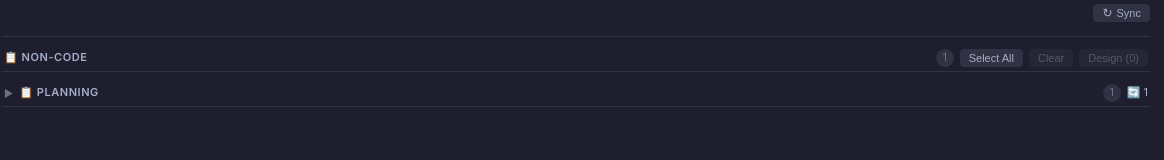
Test: TaskList › clicking a non-code type card header toggles visibility of its task cards
The image size is (1164, 160).
Check: the text "Planning Task" is not shown
Click the button with test id "type-card-header-planning". click: click(59, 92)
box: [2, 80, 1150, 107]
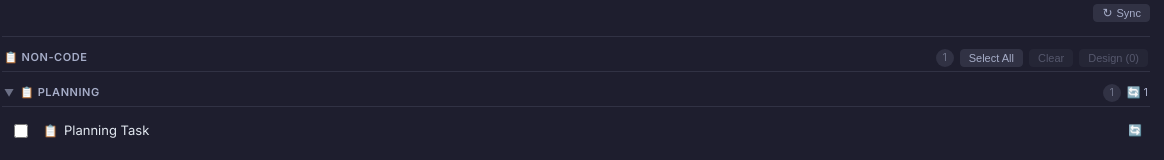
Check: the text "Planning Task" is shown, box [64, 122, 149, 138]
Click the button with test id "type-card-header-planning". click: click(60, 92)
box: [2, 80, 1150, 107]
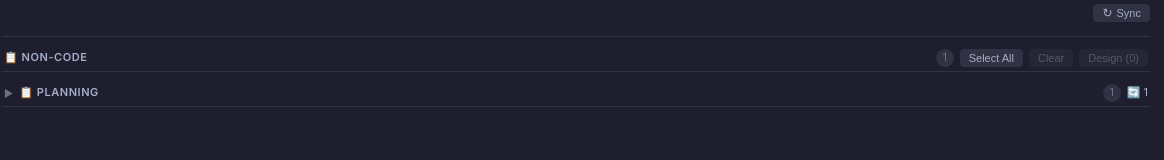
Check: the button "Planning Task" is gone
